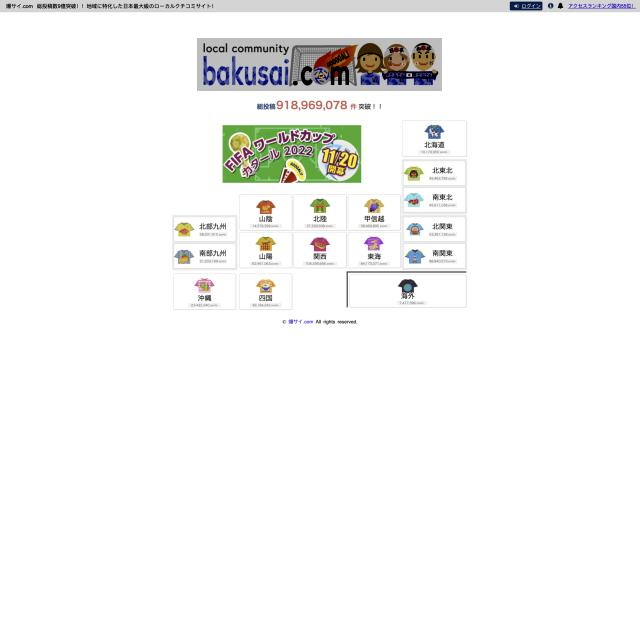bag: (0, 0, 640, 12)
date picker: (197, 38, 442, 91)
